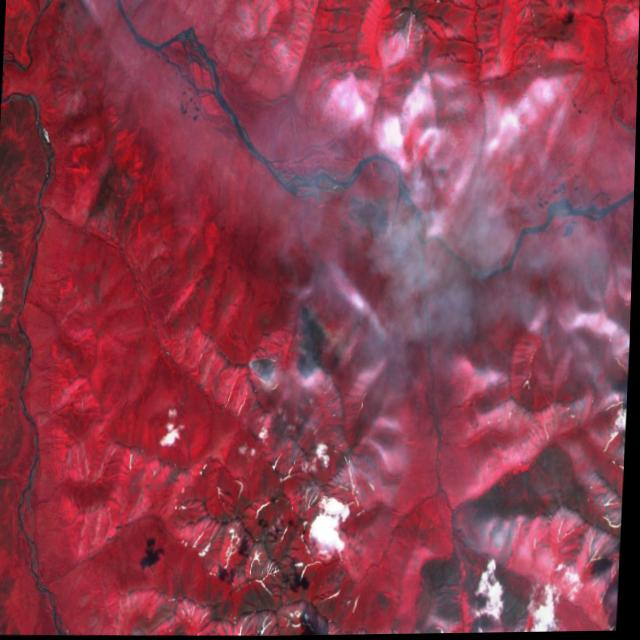fire: (247, 299, 333, 394), (348, 190, 394, 246)
